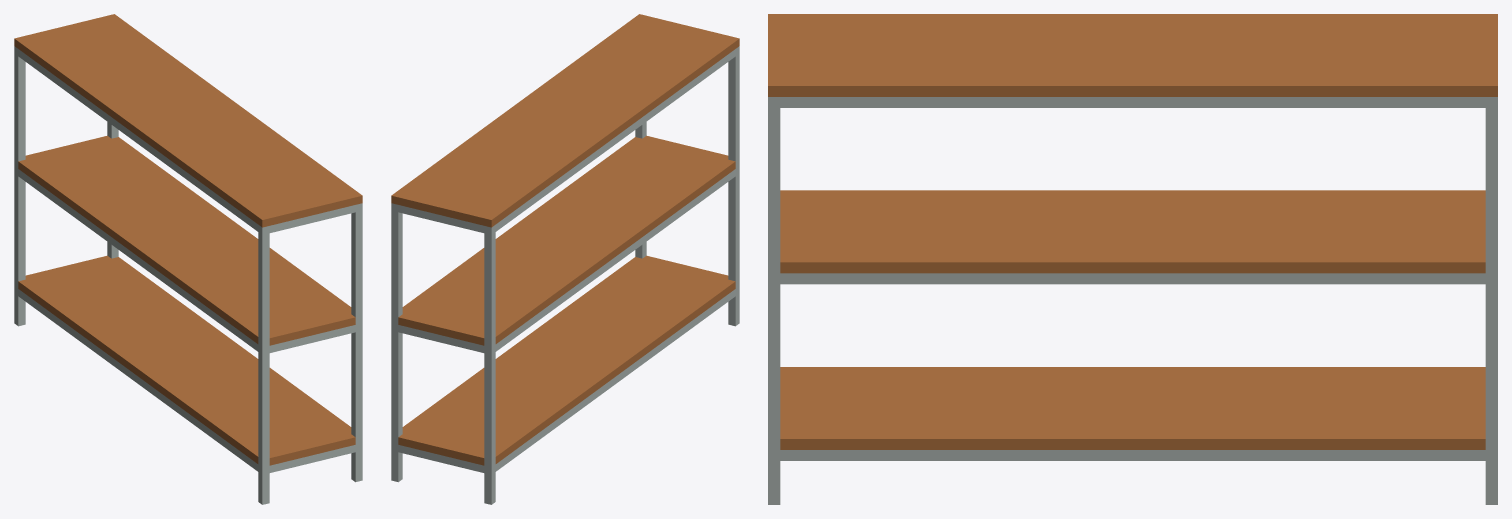
File: shelves_04.glb
3 renders of one model, left to right at view 1: azimuth 30°, elevation 25°; view 2: azimuth 150°, elevation 25°; view 3: azimuth 270°, elevation 25°, orthographic. The views are drawn at different scales.
Visible parts, largest first — view 1: Untitled; view 2: Untitled; view 3: Untitled.
Part boxes in pixels (x1=…): Untitled: x1=14, y1=14, x2=362, y2=504; Untitled: x1=391, y1=14, x2=739, y2=504; Untitled: x1=768, y1=14, x2=1497, y2=504.
Bounding box in the file's own units: 0.42 × 1.14 × 1.8.
Materials: 1 (1 with a texture image).
